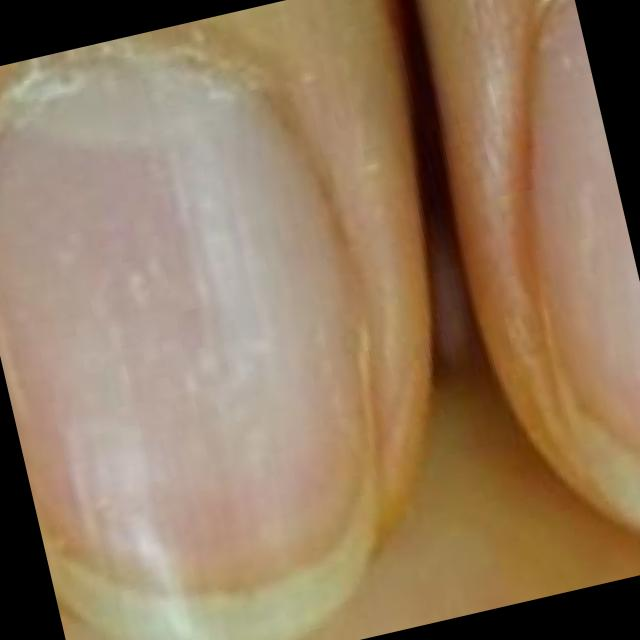Nail: (0, 60, 377, 640)
